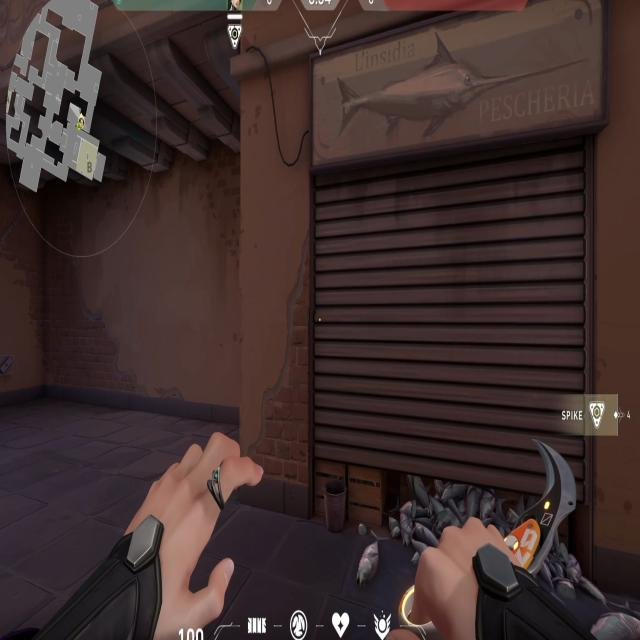B_Main_Corner: (222, 51, 610, 606)
